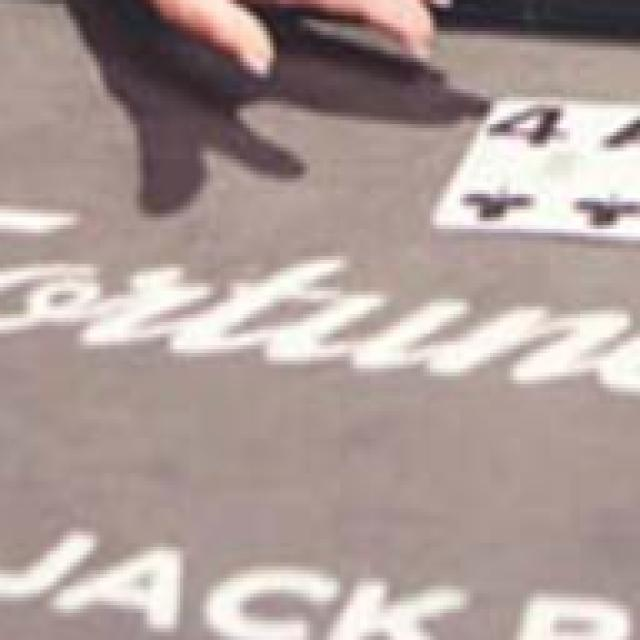Card-4: (434, 95, 640, 241)
